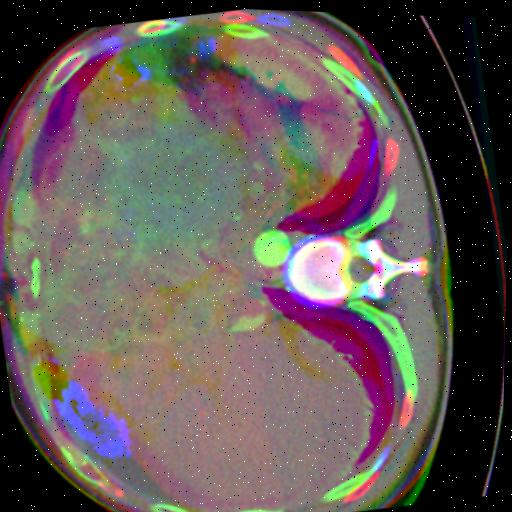Tumor: (42, 216, 169, 346)
